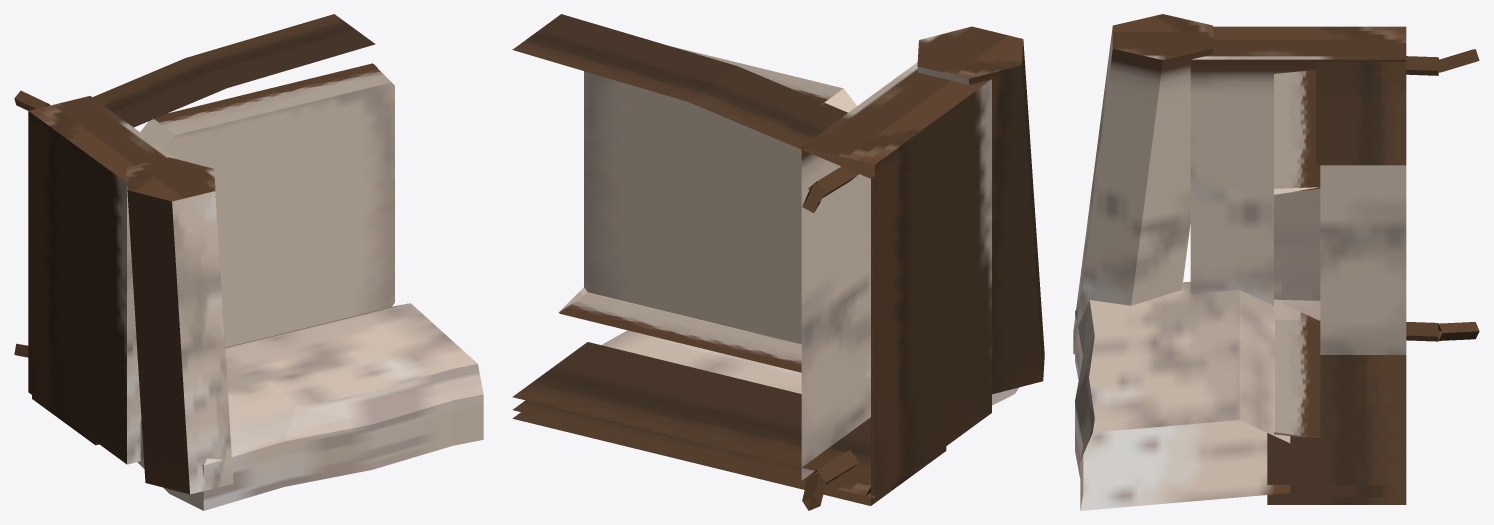
Rendered from pz_sofa_seating_indoor_03_victorian_c6_0_0_fidelity_r1.obj.
3 views of the same model, side by side, from view 1: azimuth 30°, elevation 25°; view 2: azimuth 150°, elevation 25°; view 3: azimuth 270°, elevation 25° (orthographic). The views are drawn at different scales.
Visible parts, largest first — view 1: pz_sofa_seating_indoor_03_victorian_c6_0_0__seat_0__seat, pz_sofa_seating_indoor_03_victorian_c6_0_0__sculpted_back__back, pz_sofa_seating_indoor_03_victorian_c6_0_0__chester_side_-1__arm, pz_sofa_seating_indoor_03_victorian_c6_0_0__chester_roll_-1__arm, pz_sofa_seating_indoor_03_victorian_c6_0_0__bowed_wood_apron__fr; view 2: pz_sofa_seating_indoor_03_victorian_c6_0_0__chester_side_-1__arm, pz_sofa_seating_indoor_03_victorian_c6_0_0__seat_0__seat, pz_sofa_seating_indoor_03_victorian_c6_0_0__rear_body_bridge__fr, pz_sofa_seating_indoor_03_victorian_c6_0_0__bowed_wood_apron__fr, pz_sofa_seating_indoor_03_victorian_c6_0_0__chester_roll_-1__arm, pz_sofa_seating_indoor_03_victorian_c6_0_0__sculpted_back__back, pz_sofa_seating_indoor_03_victorian_c6_0_0__curved_foot_-1_-1_1_, pz_sofa_seating_indoor_03_victorian_c6_0_0__curved_foot_-1_1_1__, pz_sofa_seating_indoor_03_victorian_c6_0_0__curved_foot_-1_-1_0_; view 3: pz_sofa_seating_indoor_03_victorian_c6_0_0__chester_side_-1__arm, pz_sofa_seating_indoor_03_victorian_c6_0_0__sculpted_back__back, pz_sofa_seating_indoor_03_victorian_c6_0_0__chester_roll_-1__arm, pz_sofa_seating_indoor_03_victorian_c6_0_0__seat_0__seat, pz_sofa_seating_indoor_03_victorian_c6_0_0__rear_body_bridge__fr, pz_sofa_seating_indoor_03_victorian_c6_0_0__bowed_wood_apron__fr, pz_sofa_seating_indoor_03_victorian_c6_0_0__curved_foot_-1_-1_0_, pz_sofa_seating_indoor_03_victorian_c6_0_0__curved_foot_-1_-1_1_, pz_sofa_seating_indoor_03_victorian_c6_0_0__curved_foot_-1_1_1__, pz_sofa_seating_indoor_03_victorian_c6_0_0__curved_foot_-1_1_0__.
Boxes of the visible parts, left/top/right/bottom form: pz_sofa_seating_indoor_03_victorian_c6_0_0__seat_0__seat: left=140, top=63, right=394, bottom=347; pz_sofa_seating_indoor_03_victorian_c6_0_0__sculpted_back__back: left=137, top=303, right=483, bottom=510; pz_sofa_seating_indoor_03_victorian_c6_0_0__chester_side_-1__arm: left=28, top=96, right=175, bottom=464; pz_sofa_seating_indoor_03_victorian_c6_0_0__chester_roll_-1__arm: left=126, top=157, right=233, bottom=494; pz_sofa_seating_indoor_03_victorian_c6_0_0__bowed_wood_apron__fr: left=92, top=14, right=375, bottom=127; pz_sofa_seating_indoor_03_victorian_c6_0_0__chester_side_-1__arm: left=801, top=62, right=991, bottom=498; pz_sofa_seating_indoor_03_victorian_c6_0_0__seat_0__seat: left=559, top=46, right=856, bottom=372; pz_sofa_seating_indoor_03_victorian_c6_0_0__rear_body_bridge__fr: left=512, top=342, right=946, bottom=505; pz_sofa_seating_indoor_03_victorian_c6_0_0__bowed_wood_apron__fr: left=512, top=14, right=874, bottom=495; pz_sofa_seating_indoor_03_victorian_c6_0_0__chester_roll_-1__arm: left=917, top=26, right=1044, bottom=394; pz_sofa_seating_indoor_03_victorian_c6_0_0__sculpted_back__back: left=587, top=292, right=1018, bottom=405; pz_sofa_seating_indoor_03_victorian_c6_0_0__curved_foot_-1_-1_1_: left=809, top=450, right=858, bottom=484; pz_sofa_seating_indoor_03_victorian_c6_0_0__curved_foot_-1_1_1__: left=808, top=166, right=858, bottom=197; pz_sofa_seating_indoor_03_victorian_c6_0_0__curved_foot_-1_-1_0_: left=802, top=472, right=825, bottom=510; pz_sofa_seating_indoor_03_victorian_c6_0_0__chester_side_-1__arm: left=1190, top=26, right=1406, bottom=354; pz_sofa_seating_indoor_03_victorian_c6_0_0__sculpted_back__back: left=1075, top=281, right=1290, bottom=510; pz_sofa_seating_indoor_03_victorian_c6_0_0__chester_roll_-1__arm: left=1073, top=14, right=1212, bottom=354; pz_sofa_seating_indoor_03_victorian_c6_0_0__seat_0__seat: left=1274, top=69, right=1320, bottom=438; pz_sofa_seating_indoor_03_victorian_c6_0_0__rear_body_bridge__fr: left=1267, top=355, right=1406, bottom=504; pz_sofa_seating_indoor_03_victorian_c6_0_0__bowed_wood_apron__fr: left=1316, top=62, right=1406, bottom=496; pz_sofa_seating_indoor_03_victorian_c6_0_0__curved_foot_-1_-1_0_: left=1437, top=322, right=1479, bottom=340; pz_sofa_seating_indoor_03_victorian_c6_0_0__curved_foot_-1_-1_1_: left=1406, top=322, right=1439, bottom=341; pz_sofa_seating_indoor_03_victorian_c6_0_0__curved_foot_-1_1_1__: left=1406, top=56, right=1438, bottom=75; pz_sofa_seating_indoor_03_victorian_c6_0_0__curved_foot_-1_1_0__: left=1437, top=49, right=1479, bottom=72.
Size of the model in its own units: 0.8967 by 0.8531 by 0.9073.
Materials: 1 (1 with a texture image).
